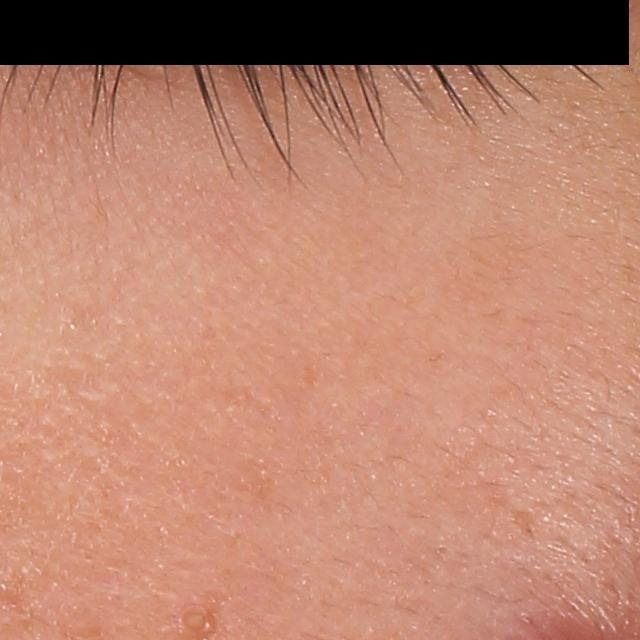pustule: (176, 601, 225, 636)
